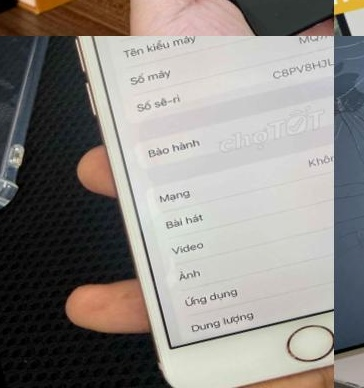physical_damage: (334, 53, 364, 175), (334, 220, 364, 326), (334, 145, 364, 247), (334, 36, 364, 73)
